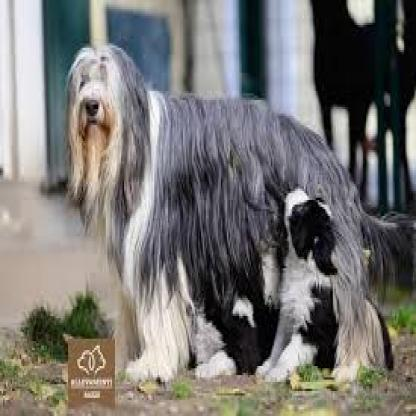Bearded Collie: (40, 32, 251, 312), (266, 170, 372, 387)
